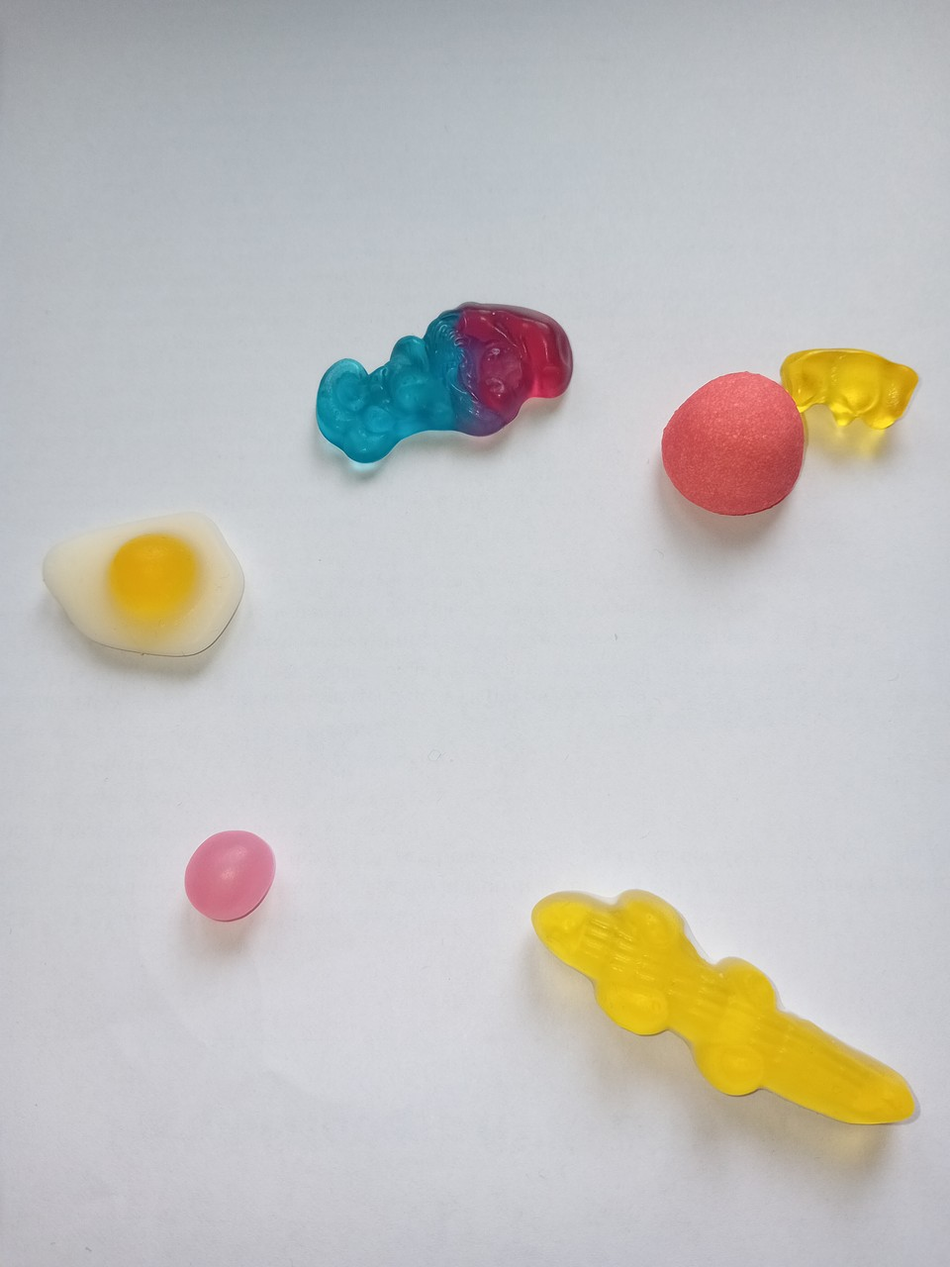crocodile_jaune: (513, 873, 928, 1152)
dragibus_rose: (184, 822, 277, 923)
oeuf_oeuf: (32, 506, 246, 657)
ourson_jaune: (775, 342, 923, 428)
schtroumpf_bleu-rouge: (297, 292, 579, 468)
tagada_fraise: (655, 367, 810, 524)
